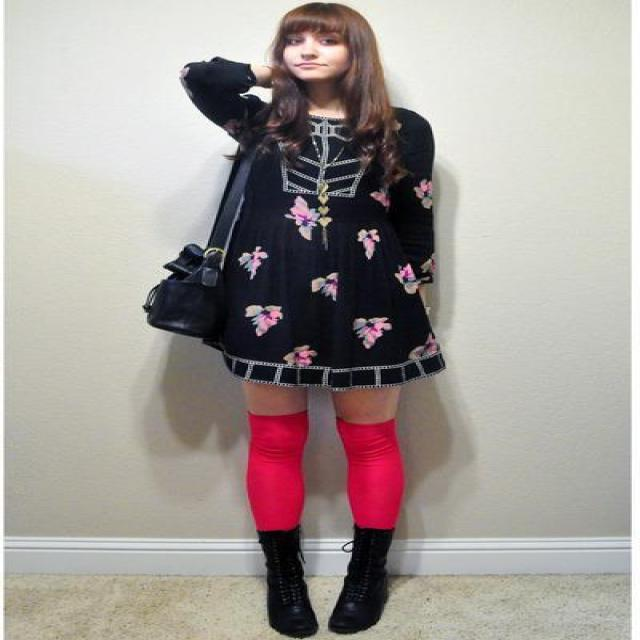bag: (142, 247, 230, 336)
dress: (181, 57, 440, 386)
shoe: (257, 525, 393, 638)
